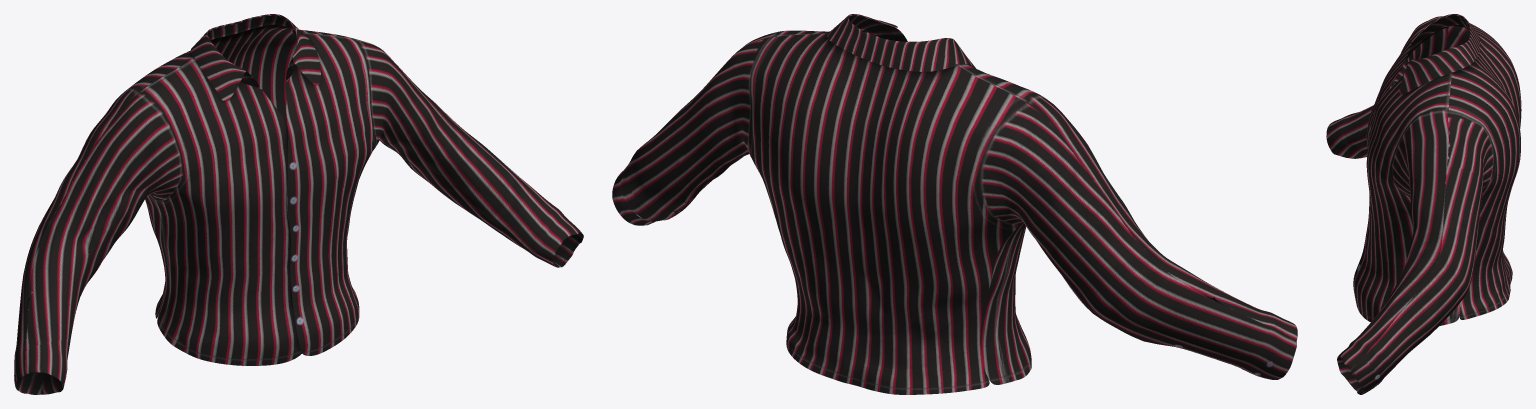
The model's file is LS_XLM.dae.
3 renders of one model, left to right at view 1: azimuth 30°, elevation 25°; view 2: azimuth 150°, elevation 25°; view 3: azimuth 270°, elevation 25°, orthographic. The views are drawn at different scales.
Visible parts, largest first — view 1: longshirt; view 2: longshirt; view 3: longshirt.
Boxes of the visible parts, left/top/right/bottom form: longshirt: left=14, top=14, right=583, bottom=394; longshirt: left=612, top=14, right=1297, bottom=394; longshirt: left=1326, top=14, right=1521, bottom=394.
Size of the model in its own units: 10.49 by 5.24 by 3.41.
